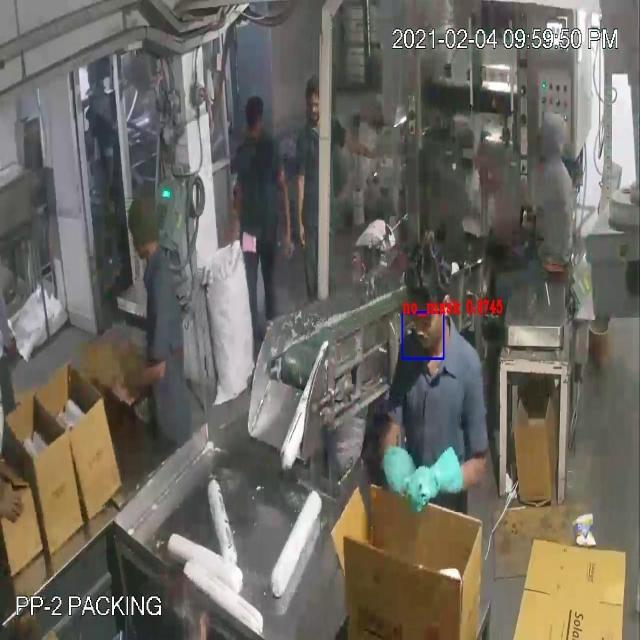No_Gloves: (15, 52, 441, 498)
